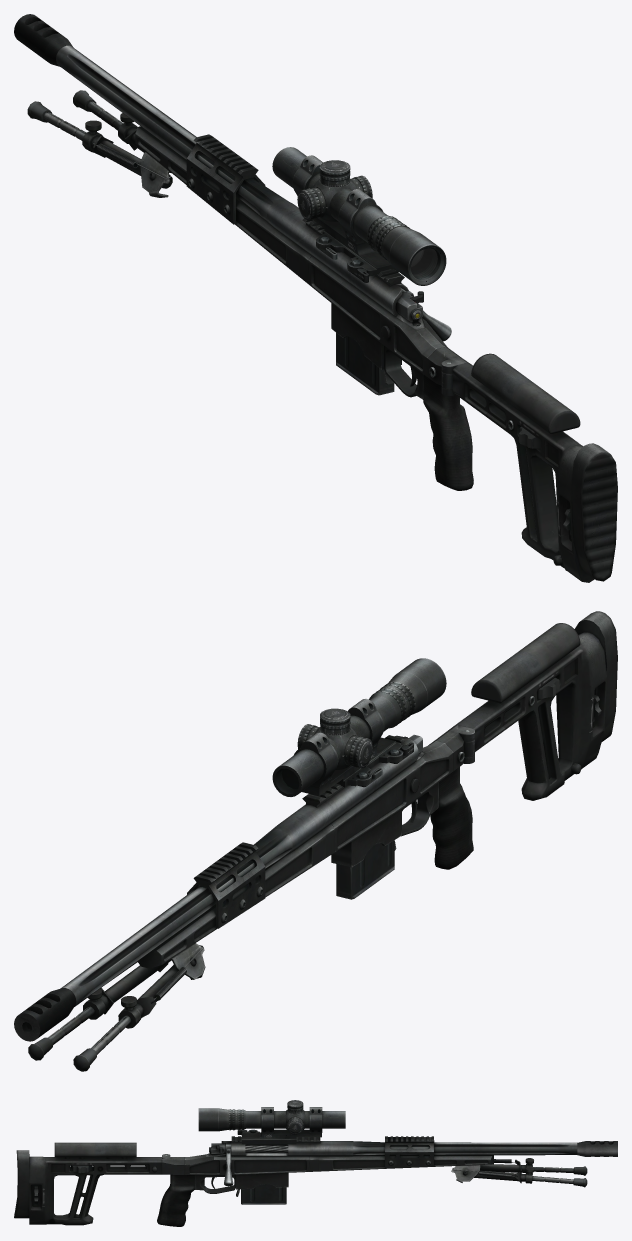
File: rifle_t5000.glb
3 renders of one model, top to bottom at view 1: azimuth 30°, elevation 25°; view 2: azimuth 150°, elevation 25°; view 3: azimuth 270°, elevation 25°, orthographic. The views are drawn at different scales.
Parts seen in each view (by area): view 1: T5000_weapon, T5000_optic, T5000_rail, muzzle_t5000_d; view 2: T5000_weapon, T5000_optic, T5000_rail, muzzle_t5000_d; view 3: T5000_weapon, T5000_optic, T5000_rail, muzzle_t5000_d.
Part boxes in pixels (<box>): T5000_weapon: <box>27,45,617,582</box>; T5000_optic: <box>272,147,446,285</box>; T5000_rail: <box>186,134,265,224</box>; muzzle_t5000_d: <box>14,14,73,66</box>; T5000_weapon: <box>28,611,617,1071</box>; T5000_optic: <box>272,658,446,796</box>; T5000_rail: <box>187,842,265,928</box>; muzzle_t5000_d: <box>14,988,76,1041</box>; T5000_weapon: <box>14,1136,587,1226</box>; T5000_optic: <box>198,1100,345,1144</box>; T5000_rail: <box>385,1136,434,1168</box>; muzzle_t5000_d: <box>577,1141,617,1156</box>.
Size of the model in its own units: 0.0912 by 0.2454 by 1.09.
6 materials, 4 textured.
